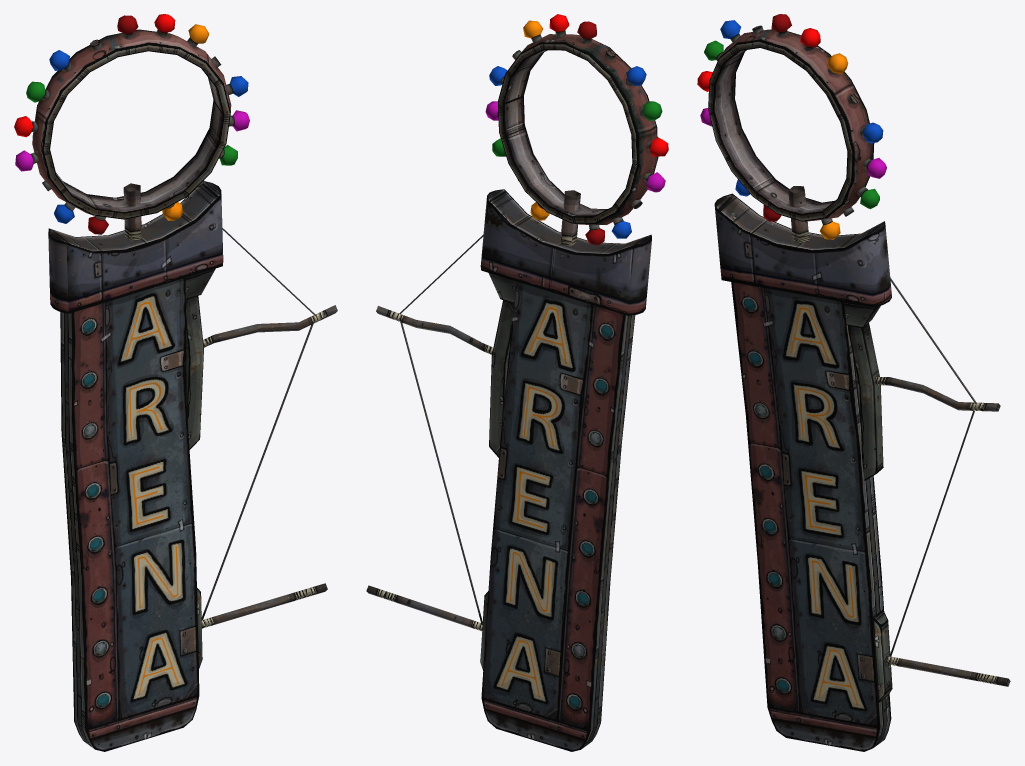
The model's file is ArenaSign.FBX.
The picture shows the model from 3 angles, left to right: view 1: azimuth 30°, elevation 25°; view 2: azimuth 150°, elevation 25°; view 3: azimuth 330°, elevation 25°; orthographic projection. The views are drawn at different scales.
Parts seen in each view (by area): view 1: ArenaSign; view 2: ArenaSign; view 3: ArenaSign.
Boxes of the visible parts, x1=… form: ArenaSign: x1=14, y1=14, x2=337, y2=751; ArenaSign: x1=366, y1=14, x2=668, y2=751; ArenaSign: x1=697, y1=14, x2=1010, y2=751.
Bounding box in the file's own units: 485 × 1106 × 111.
